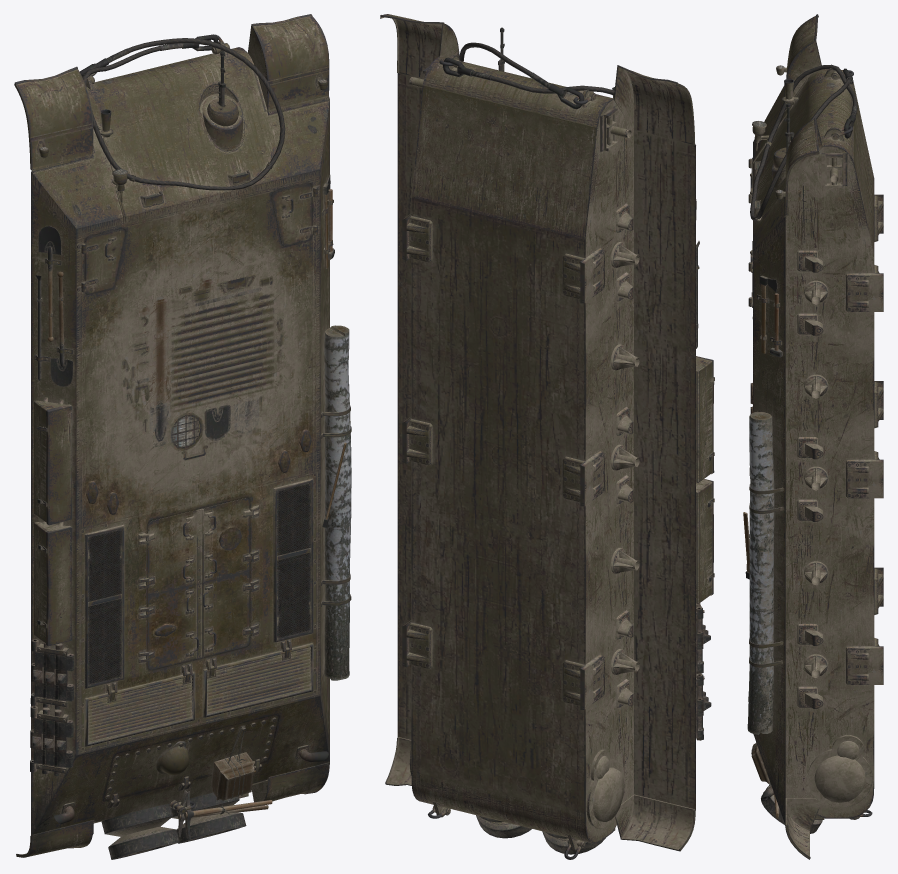
The model's file is Hull.glb.
3 views of the same model, side by side, from view 1: azimuth 30°, elevation 25°; view 2: azimuth 150°, elevation 25°; view 3: azimuth 270°, elevation 25° (orthographic). The views are drawn at different scales.
Visible parts, largest first — view 1: set_0_group_0; view 2: set_0_group_0; view 3: set_0_group_0.
Boxes of the visible parts, x1,y1,x2,y2 form: set_0_group_0: (14,14,351,859); set_0_group_0: (380,14,714,859); set_0_group_0: (743,14,883,859).
Bounding box in the file's own units: 3.08 × 7.56 × 1.31.
1 material, 1 textured.
